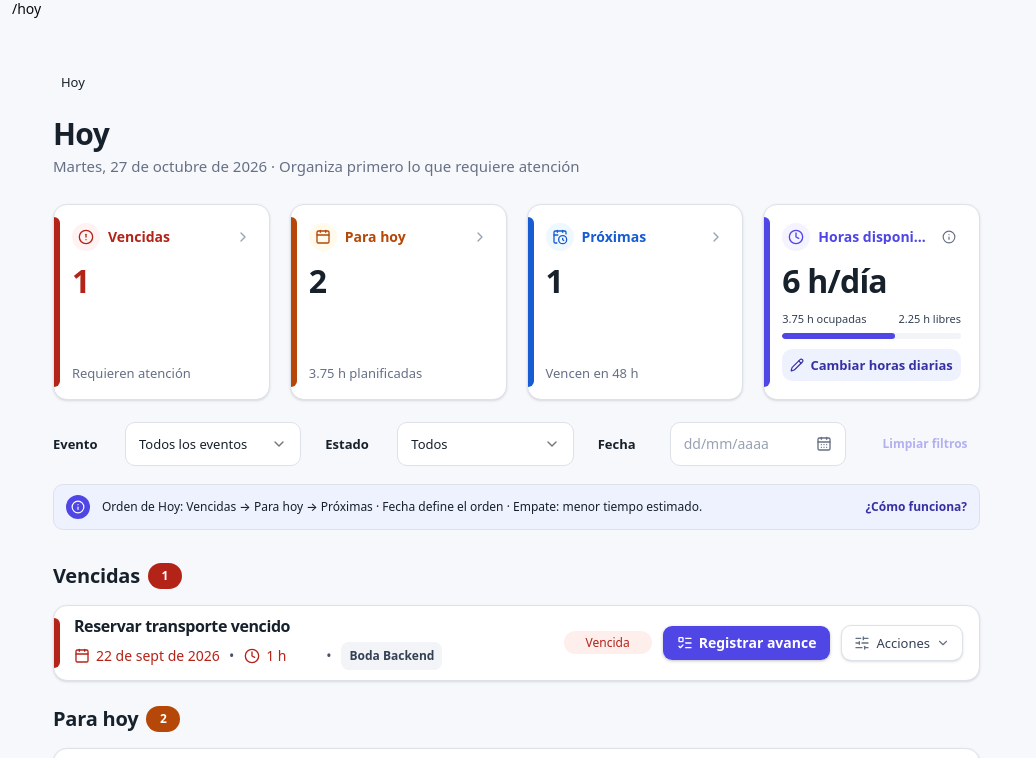
Test: TodayPage › filtra por fecha específica y permite limpiar el filtro
Type "24092026" into the field labelled "Fecha".
click(758, 444); type("24092026")  # box [670,422,846,466]
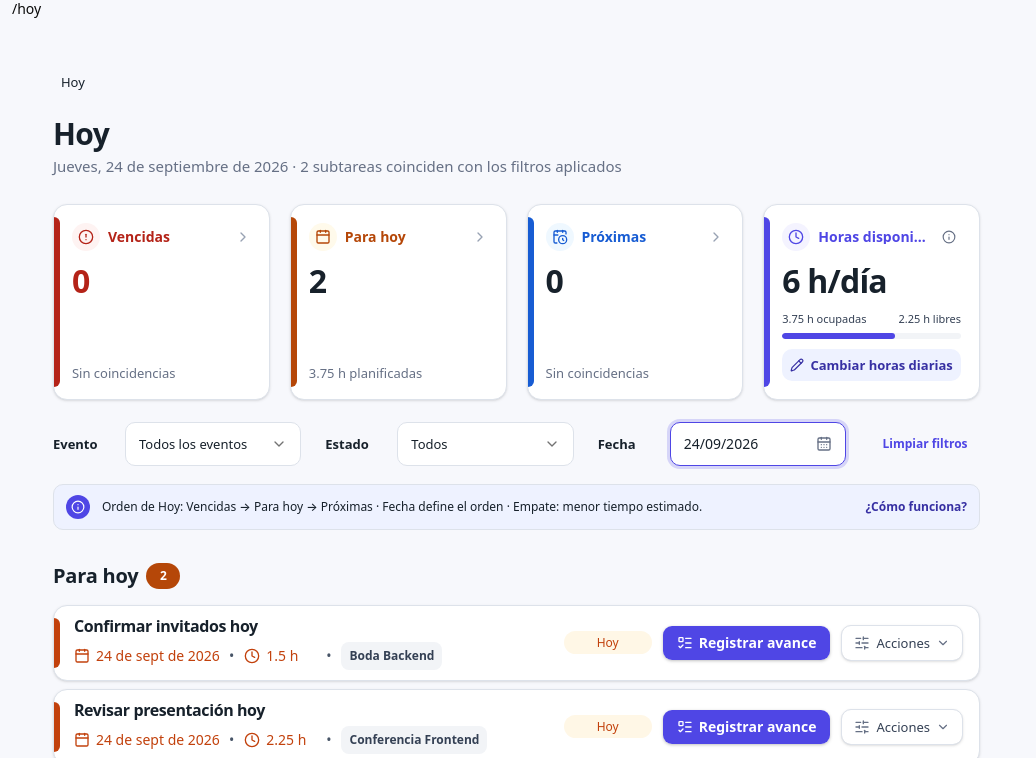
Expected: the text "Confirmar invitados hoy" is shown, [74,616,258,636]
Now the button "Reservar transporte vencido" is gone
Note: Limpiar filtro
Click the button "Limpiar filtros".
click(925, 444)  # box [870,422,980,466]
(page scrolled)
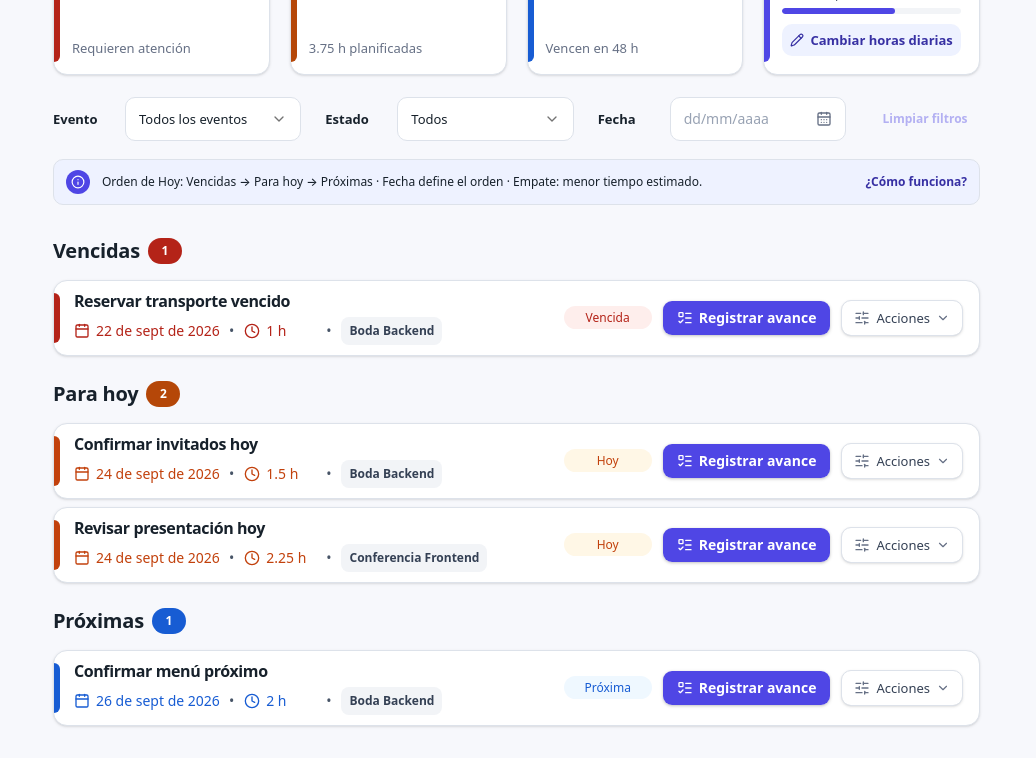
Now the text "Reservar transporte vencido" is shown, box [74,291,290,311]
Now the text "Confirmar menú próximo" is shown, box [74,661,268,681]
